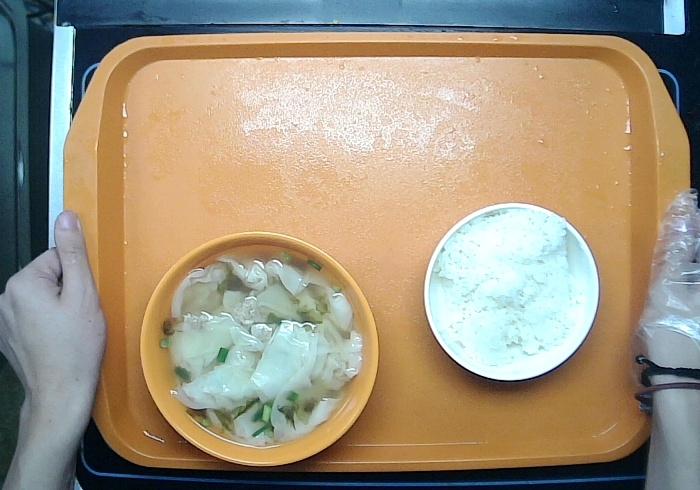NLDX-Fan_Wan: (416, 198, 605, 388)
NLDX-Hun_Tun_Wan: (136, 228, 379, 470)
